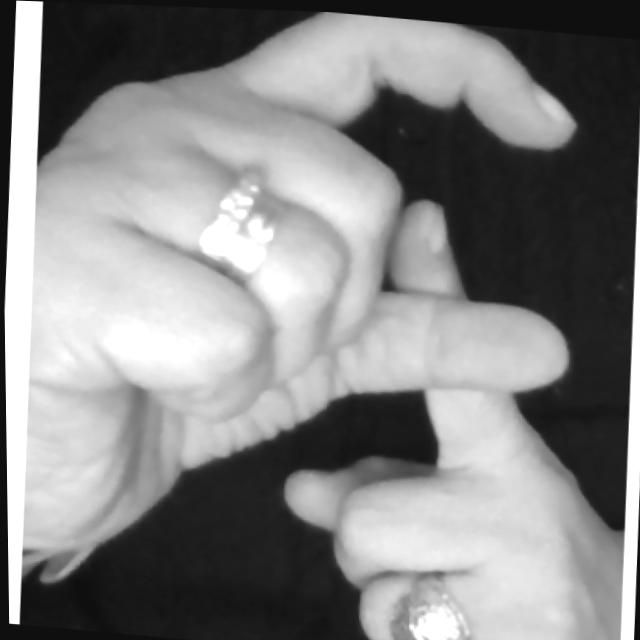C_: (12, 0, 640, 640)
